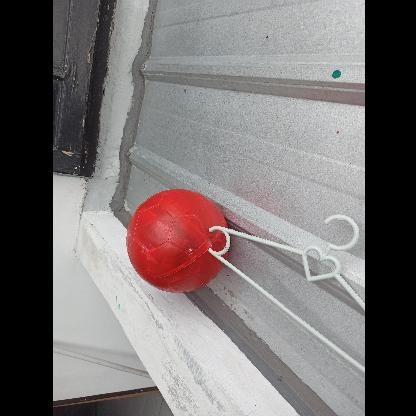red_ball: (124, 188, 226, 290)
